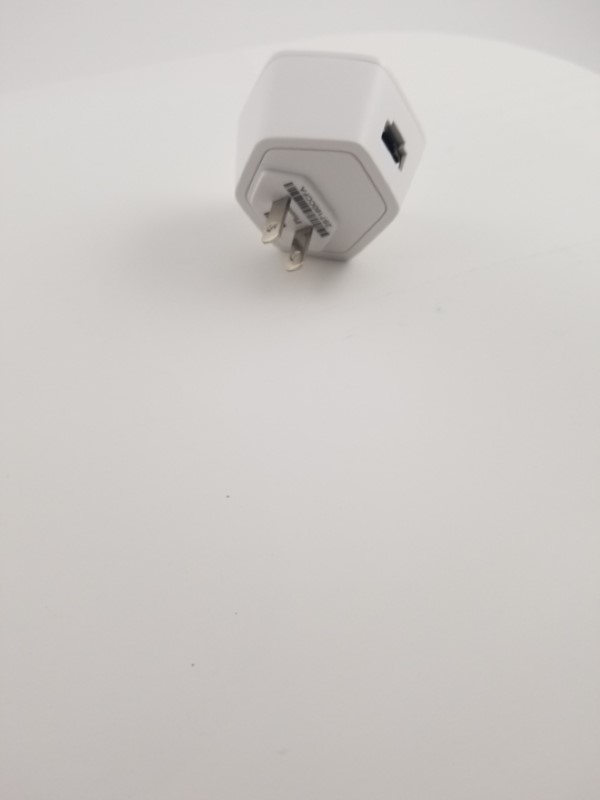pod: (230, 44, 439, 274)
